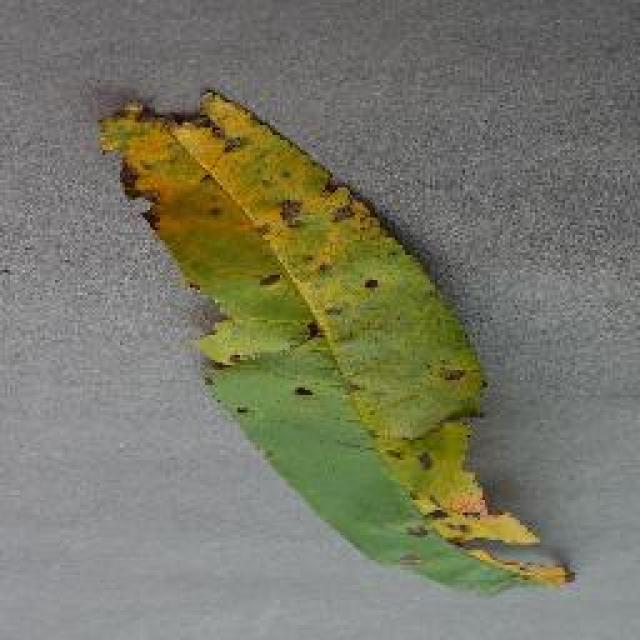Peach_Bacterial_Spot: (127, 87, 548, 598)
